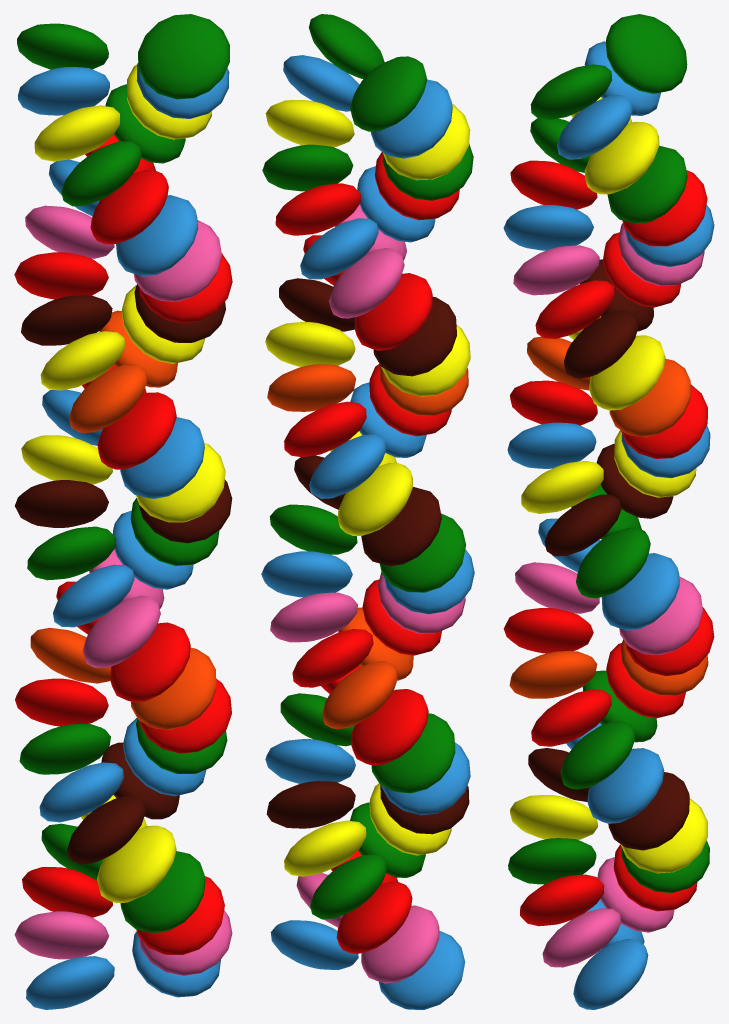
Rendered from pillar_marble_01.FBX.
3 views of the same model, side by side, from view 1: azimuth 30°, elevation 25°; view 2: azimuth 150°, elevation 25°; view 3: azimuth 270°, elevation 25° (orthographic). The views are drawn at different scales.
Visible parts, largest first — view 1: pillar_marble; view 2: pillar_marble; view 3: pillar_marble.
Boxes of the visible parts, x1,y1,x2,y2 form: pillar_marble: (14,14,232,1009); pillar_marble: (261,14,474,1009); pillar_marble: (503,14,714,1009).
Size of the model in its own units: 17.72 by 87.14 by 17.82.
